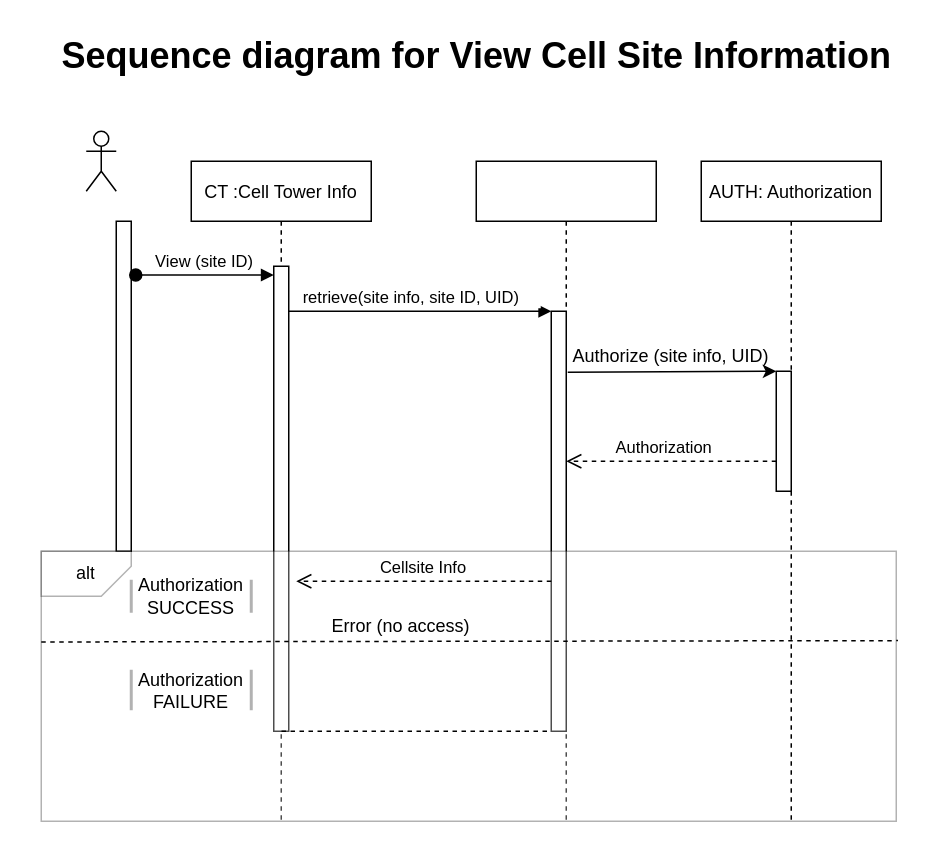
Some shapes in this 926 by 848 pixel diagram are drawn without their labels. The shapes that lost their labels are listed below. From the top down, each one's centre as x and y in pixels, then its label:
At point 100,160: "User (staff, Admin)".
At point 565,490: "DB:Cell Tower DB".
